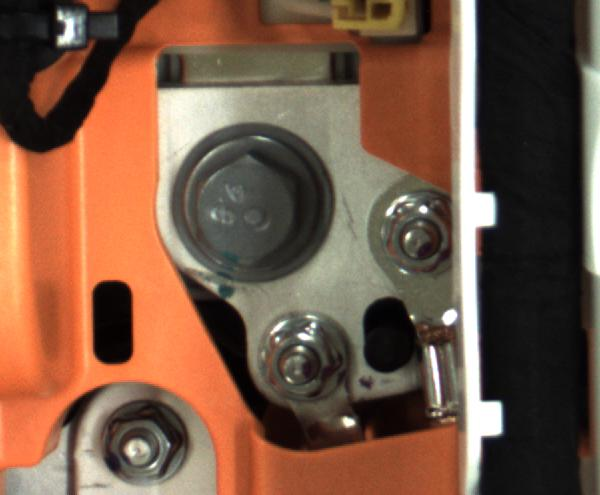nut_b: (159, 134, 339, 289)
screw_s: (247, 305, 356, 408), (95, 403, 199, 483), (365, 189, 449, 278)
